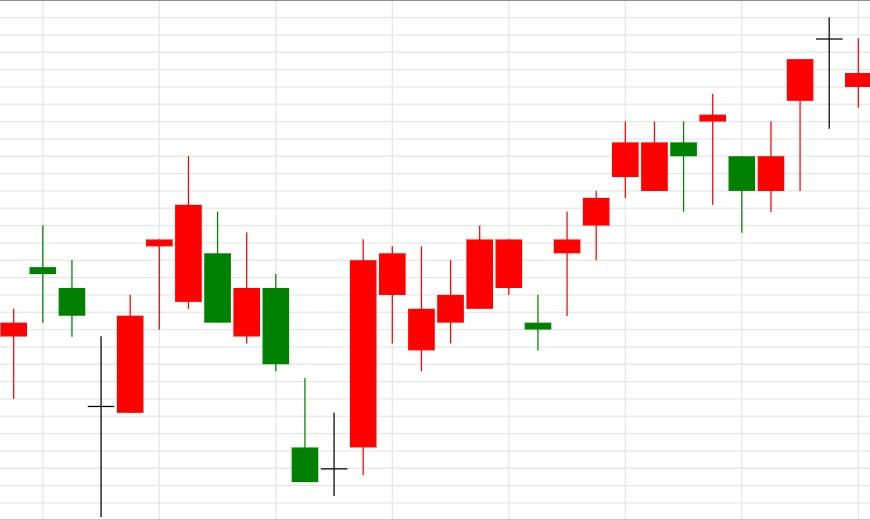inverse_hammer_rise: (174, 156, 319, 483)
